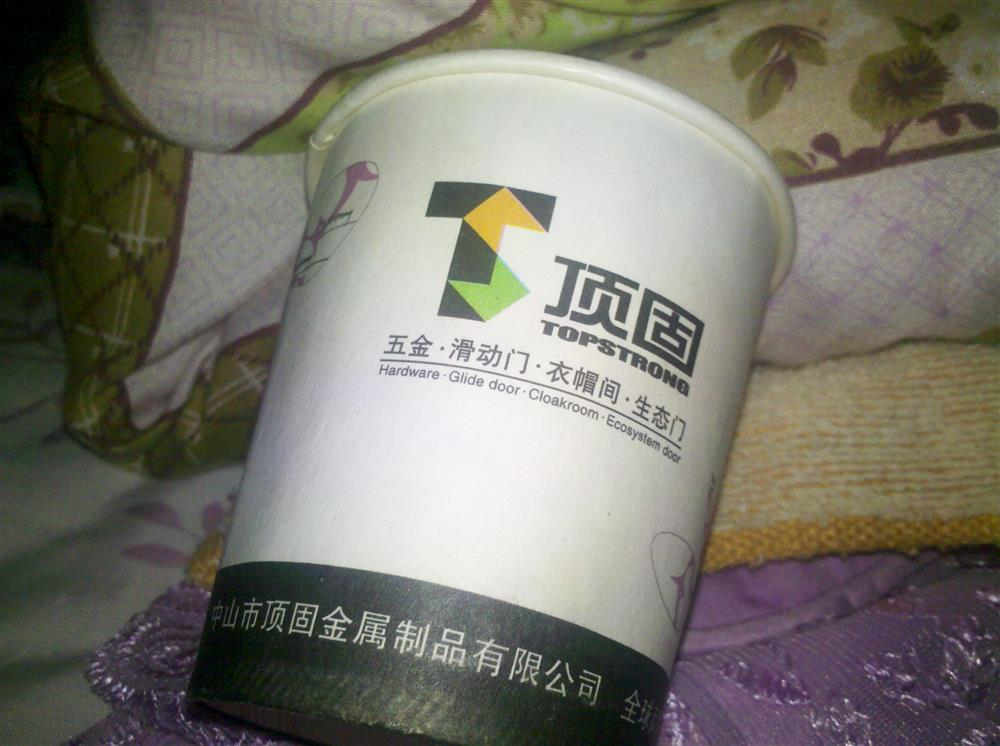TopStrong_Cup: (187, 48, 786, 730)
